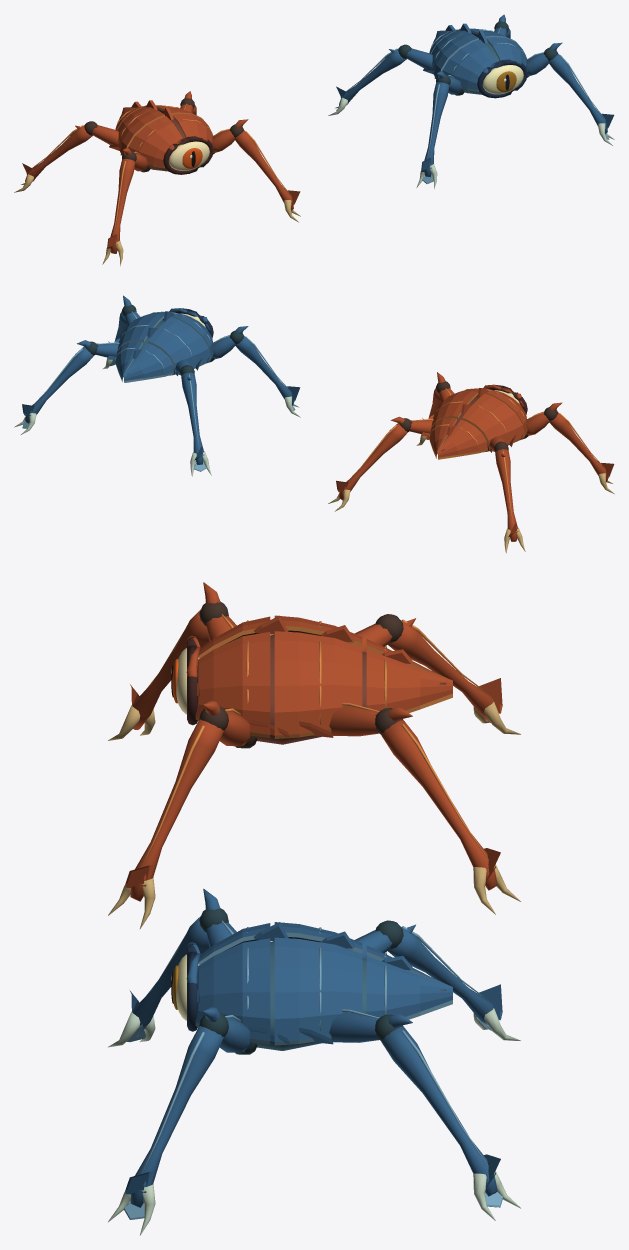
The model's file is tektites.glb.
3 renders of one model, top to bottom at view 1: azimuth 30°, elevation 25°; view 2: azimuth 150°, elevation 25°; view 3: azimuth 270°, elevation 25°, orthographic. The views are drawn at different scales.
Parts seen in each view (by area): view 1: Tektite.0.04.brow carapace, Tektite.1.04.brow carapace, Tektite.0.04.thoracic carapace, Tektite.1.04.thoracic carapace, Tektite.1.23.slender tibia, Tektite.0.13.slender tibia, Tektite.1.13.slender tibia, Tektite.0.23.slender tibia, Tektite.0.08.slender tibia, Tektite.1.08.slender tibia, Tektite.1.04.brow carapace.001, Tektite.0.04.brow carapace.001 (+8 smaller); view 2: Tektite.1.04.thoracic carapace, Tektite.0.04.thoracic carapace, Tektite.1.04.tapered rear carapace, Tektite.0.04.tapered rear carapace, Tektite.0.18.slender tibia, Tektite.1.08.slender tibia, Tektite.0.08.slender tibia, Tektite.1.18.slender tibia, Tektite.1.04.thoracic carapace.001, Tektite.0.04.thoracic carapace.001, Tektite.0.13.slender tibia, Tektite.1.13.slender tibia (+4 smaller); view 3: Tektite.1.04.thoracic carapace.001, Tektite.0.04.thoracic carapace.001, Tektite.0.04.brow carapace.001, Tektite.1.04.brow carapace.001, Tektite.0.04.tapered rear carapace.001, Tektite.1.04.tapered rear carapace.001, Tektite.0.18.slender tibia, Tektite.1.18.slender tibia, Tektite.0.23.slender tibia, Tektite.1.23.slender tibia, Tektite.0.08.slender tibia, Tektite.1.08.slender tibia (+6 smaller).
Boxes of the visible parts, x1,y1,x2,y2 form: Tektite.0.04.brow carapace: [128, 116, 182, 168]; Tektite.1.04.brow carapace: [442, 39, 496, 91]; Tektite.0.04.thoracic carapace: [117, 107, 164, 153]; Tektite.1.04.thoracic carapace: [431, 30, 478, 76]; Tektite.1.23.slender tibia: [549, 53, 607, 133]; Tektite.0.13.slender tibia: [110, 158, 135, 253]; Tektite.1.13.slender tibia: [424, 82, 449, 176]; Tektite.0.23.slender tibia: [235, 130, 293, 210]; Tektite.0.08.slender tibia: [25, 125, 92, 182]; Tektite.1.08.slender tibia: [339, 48, 406, 105]; Tektite.1.04.brow carapace.001: [486, 37, 527, 71]; Tektite.0.04.brow carapace.001: [172, 113, 213, 148]; Tektite.1.04.thoracic carapace: [148, 317, 210, 373]; Tektite.0.04.thoracic carapace: [462, 393, 524, 450]; Tektite.1.04.tapered rear carapace: [123, 343, 173, 382]; Tektite.0.04.tapered rear carapace: [437, 419, 487, 459]; Tektite.0.18.slender tibia: [339, 423, 407, 500]; Tektite.1.08.slender tibia: [181, 372, 203, 464]; Tektite.0.08.slender tibia: [495, 449, 517, 541]; Tektite.1.18.slender tibia: [25, 347, 93, 423]; Tektite.1.04.thoracic carapace.001: [116, 314, 164, 353]; Tektite.0.04.thoracic carapace.001: [431, 391, 478, 427]; Tektite.0.13.slender tibia: [549, 412, 607, 481]; Tektite.1.13.slender tibia: [235, 336, 293, 405]; Tektite.1.04.thoracic carapace.001: [274, 937, 362, 1045]; Tektite.0.04.thoracic carapace.001: [274, 631, 362, 738]; Tektite.0.04.brow carapace.001: [195, 632, 270, 738]; Tektite.1.04.brow carapace.001: [195, 938, 270, 1044]; Tektite.0.04.tapered rear carapace.001: [366, 649, 452, 712]; Tektite.1.04.tapered rear carapace.001: [366, 956, 452, 1019]; Tektite.0.18.slender tibia: [381, 719, 497, 890]; Tektite.1.18.slender tibia: [381, 1026, 497, 1196]; Tektite.0.23.slender tibia: [130, 719, 223, 901]; Tektite.1.23.slender tibia: [130, 1026, 223, 1207]; Tektite.0.08.slender tibia: [387, 620, 493, 722]; Tektite.1.08.slender tibia: [388, 927, 493, 1029].
Bounding box in the file's own units: 163 × 32.86 × 57.02.
